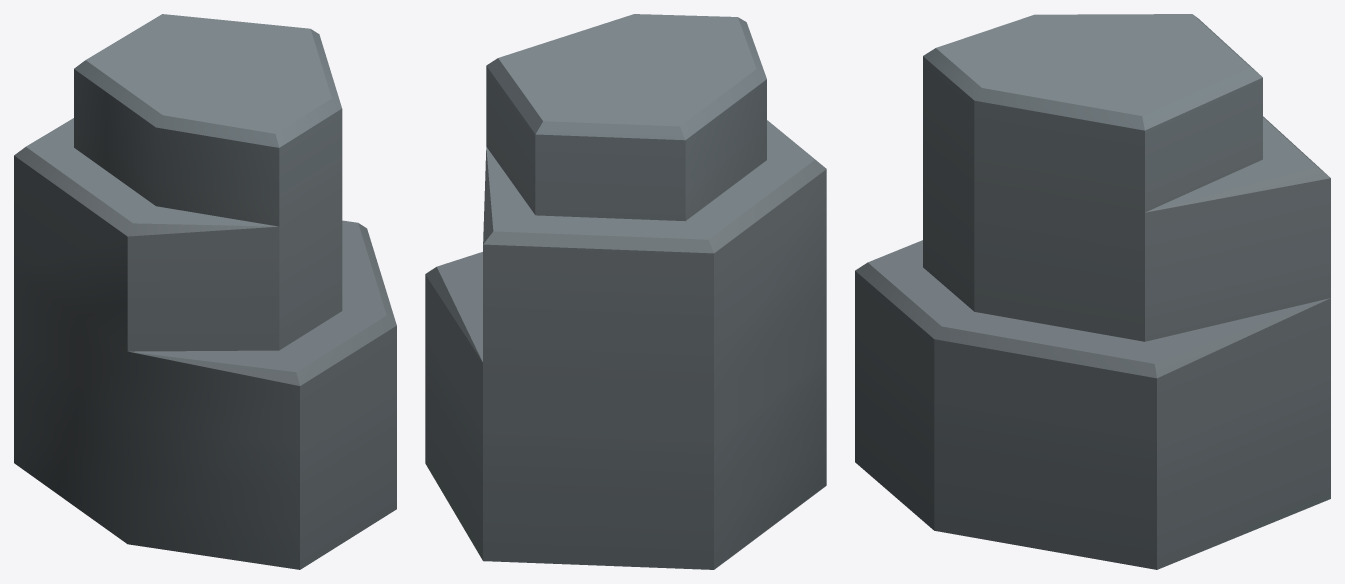
The model's file is rock_1_d_color1.glb.
3 renders of one model, left to right at view 1: azimuth 30°, elevation 25°; view 2: azimuth 150°, elevation 25°; view 3: azimuth 270°, elevation 25°, orthographic. The views are drawn at different scales.
Parts seen in each view (by area): view 1: Rock_1_D_Color1; view 2: Rock_1_D_Color1; view 3: Rock_1_D_Color1.
Part boxes in pixels (left/top/right/bottom): Rock_1_D_Color1: left=14, top=14, right=396, bottom=569; Rock_1_D_Color1: left=425, top=14, right=826, bottom=569; Rock_1_D_Color1: left=855, top=14, right=1330, bottom=569.
Bounding box in the file's own units: 0.927 × 1.13 × 1.16.
Materials: 1 (1 with a texture image).
